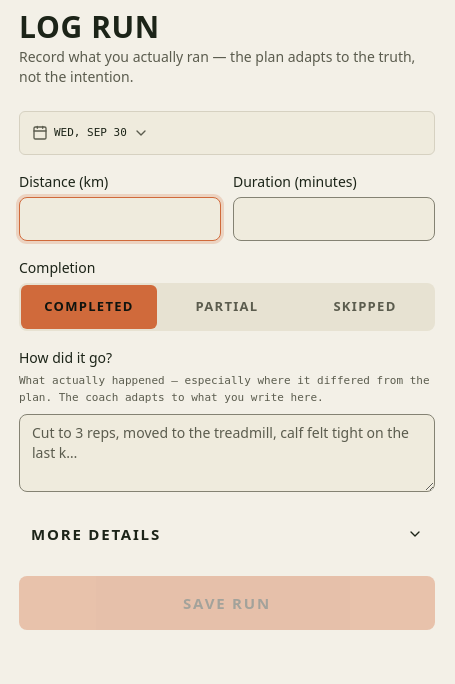
it: LogPage › hides the pace preview for blank distance, both before typing and after clearing (never NaN/00:00)
This screenshot has width=455, height=684.
Type "5" into the field labelled "Distance (km)".
click(120, 219); type("5")  # box [19, 197, 221, 241]
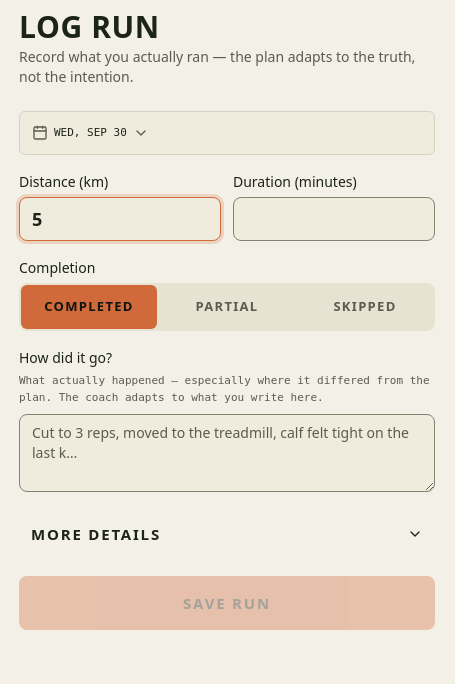
Type "30" into the field labelled "Duration (minutes)".
click(334, 219); type("30")  # box [233, 197, 435, 241]
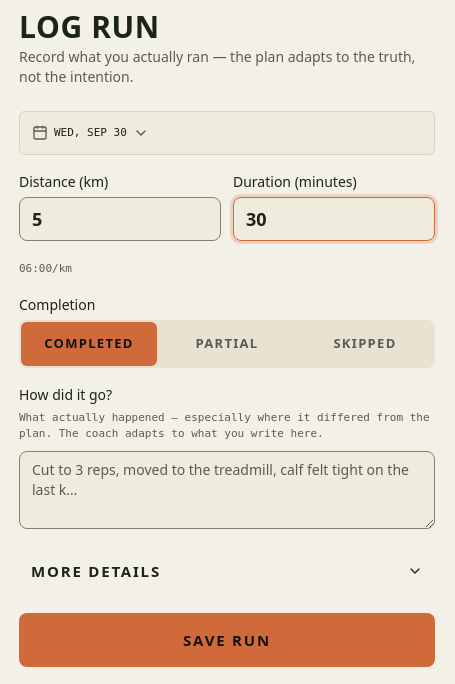
Now the text "06:00/km" is shown, box [19, 262, 72, 275]
Clear the field labelled "Distance (km)" at (120, 219), box [19, 197, 221, 241]
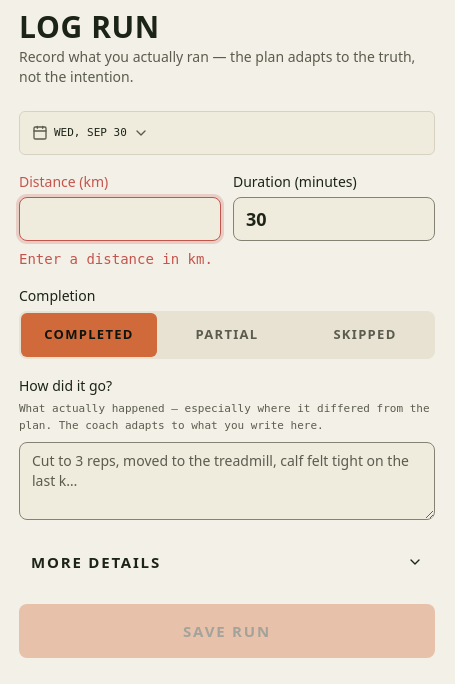
Now the text with test id "log-derived-pace" is gone
